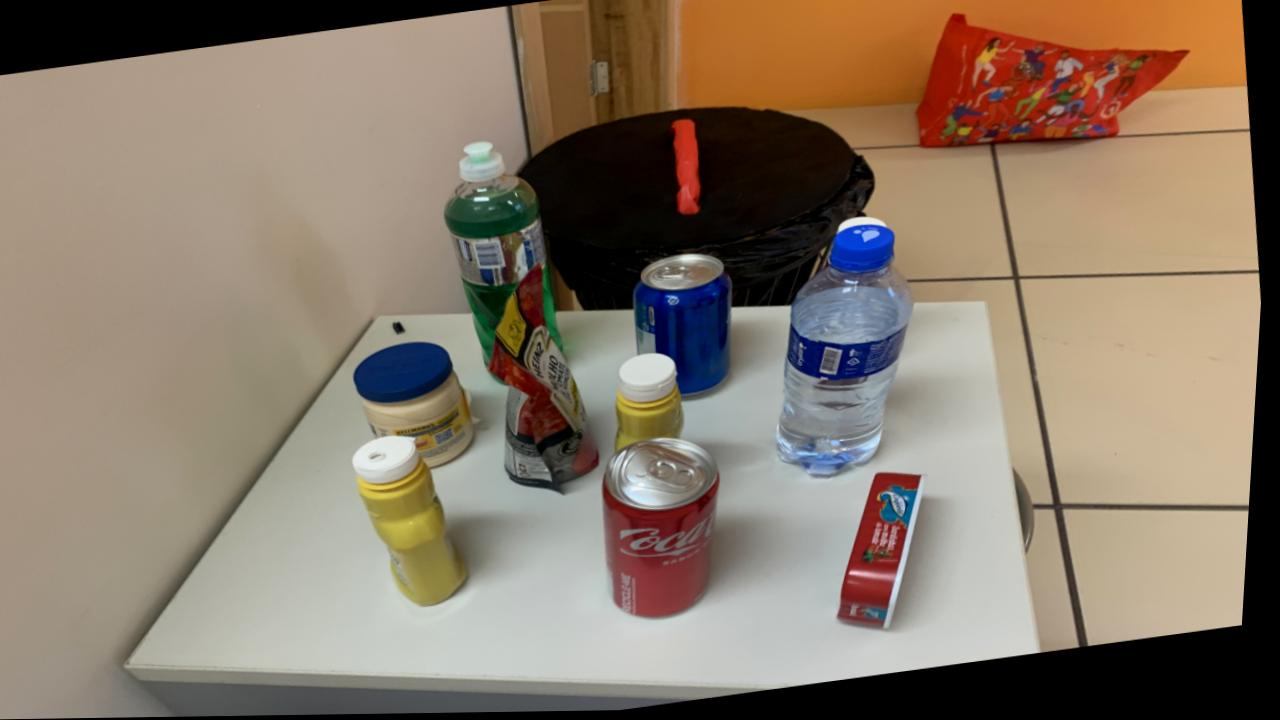Coke-Drinks: (608, 440, 726, 620)
Detergent-Cleanup_Items: (446, 142, 561, 366)
Mayonnaise-Pantry_Items: (358, 343, 479, 468)
Mustard-Pantry_Items: (357, 435, 474, 607), (620, 355, 690, 452)
Tomato_Sauce-Pantry_Items: (493, 268, 604, 492)
Tonic-Drinks: (636, 255, 737, 398)
Tuna_Can-Pantry_Items: (845, 474, 931, 632)
Water_Bottle-Drinks: (783, 219, 918, 479)
